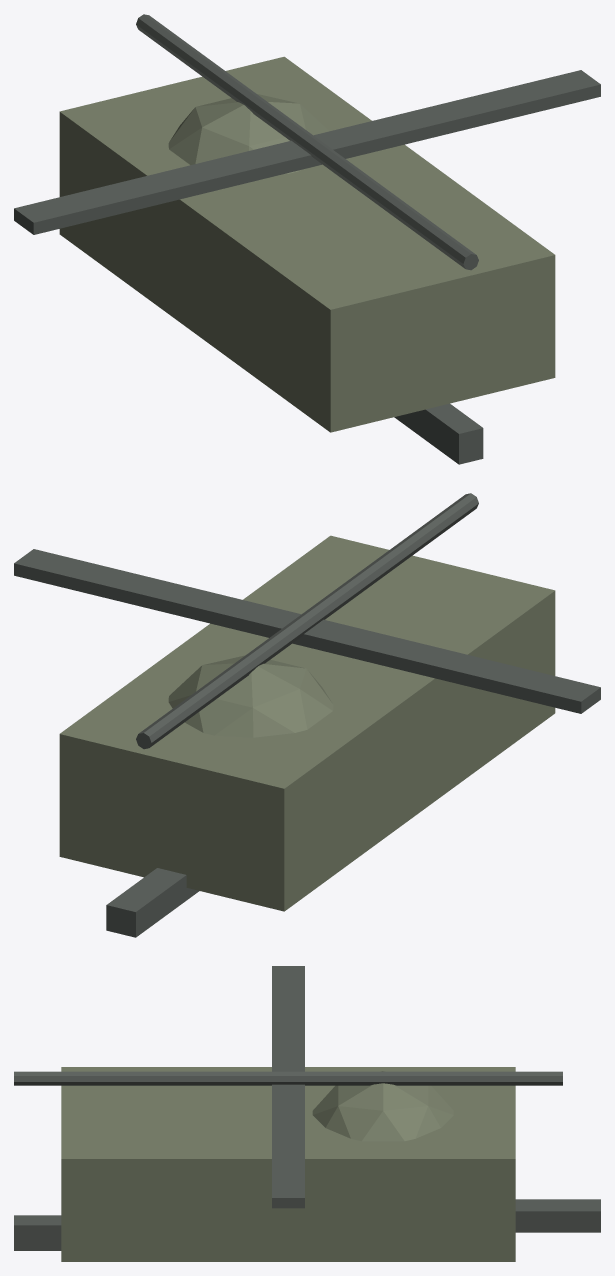
Rendered from transport.glb.
3 renders of one model, top to bottom at view 1: azimuth 30°, elevation 25°; view 2: azimuth 150°, elevation 25°; view 3: azimuth 270°, elevation 25°, orthographic. The views are drawn at different scales.
Visible parts, largest first — view 1: p0, p2, p3, p1, p4; view 2: p0, p2, p1, p3, p5; view 3: p0, p3, p2, p1, p5, p4.
Part boxes in pixels (x1,y1,x2,y2): p0: (59, 56, 555, 432); p2: (14, 70, 600, 234); p3: (136, 14, 478, 270); p1: (168, 94, 329, 174); p4: (394, 403, 483, 464); p0: (59, 535, 555, 911); p2: (14, 549, 600, 713); p1: (168, 655, 333, 737); p3: (136, 493, 478, 749); p5: (106, 868, 199, 937); p0: (61, 1067, 515, 1261); p3: (14, 1071, 562, 1085); p2: (272, 966, 304, 1208); p1: (312, 1071, 453, 1141); p5: (515, 1199, 600, 1232); p4: (14, 1215, 61, 1250).
Size of the model in its own units: 5.8 by 2.03 by 6.2.
